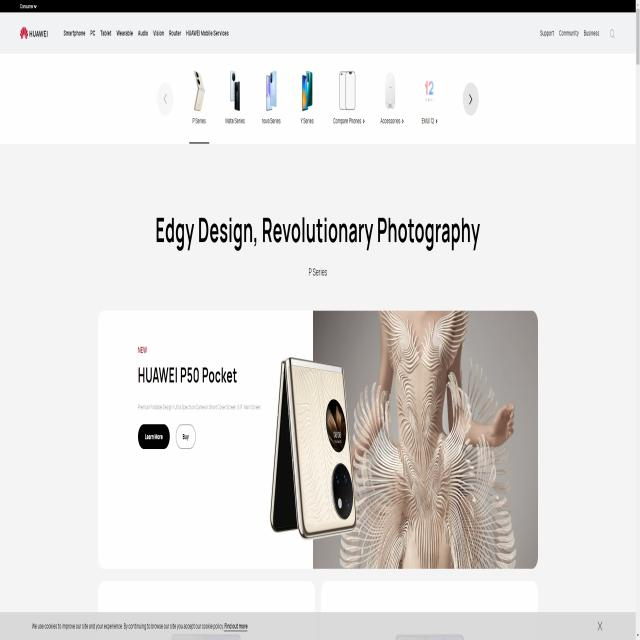menu-bar: (536, 18, 620, 47)
tab-bar: (16, 19, 232, 46)
